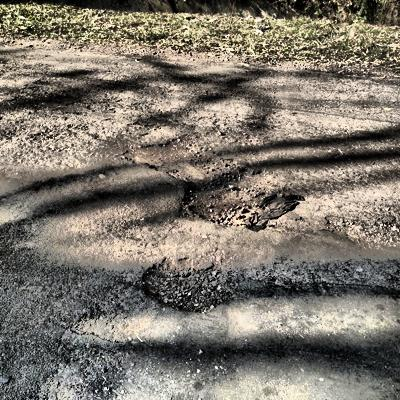pothole: (121, 131, 289, 228), (138, 253, 236, 314)
